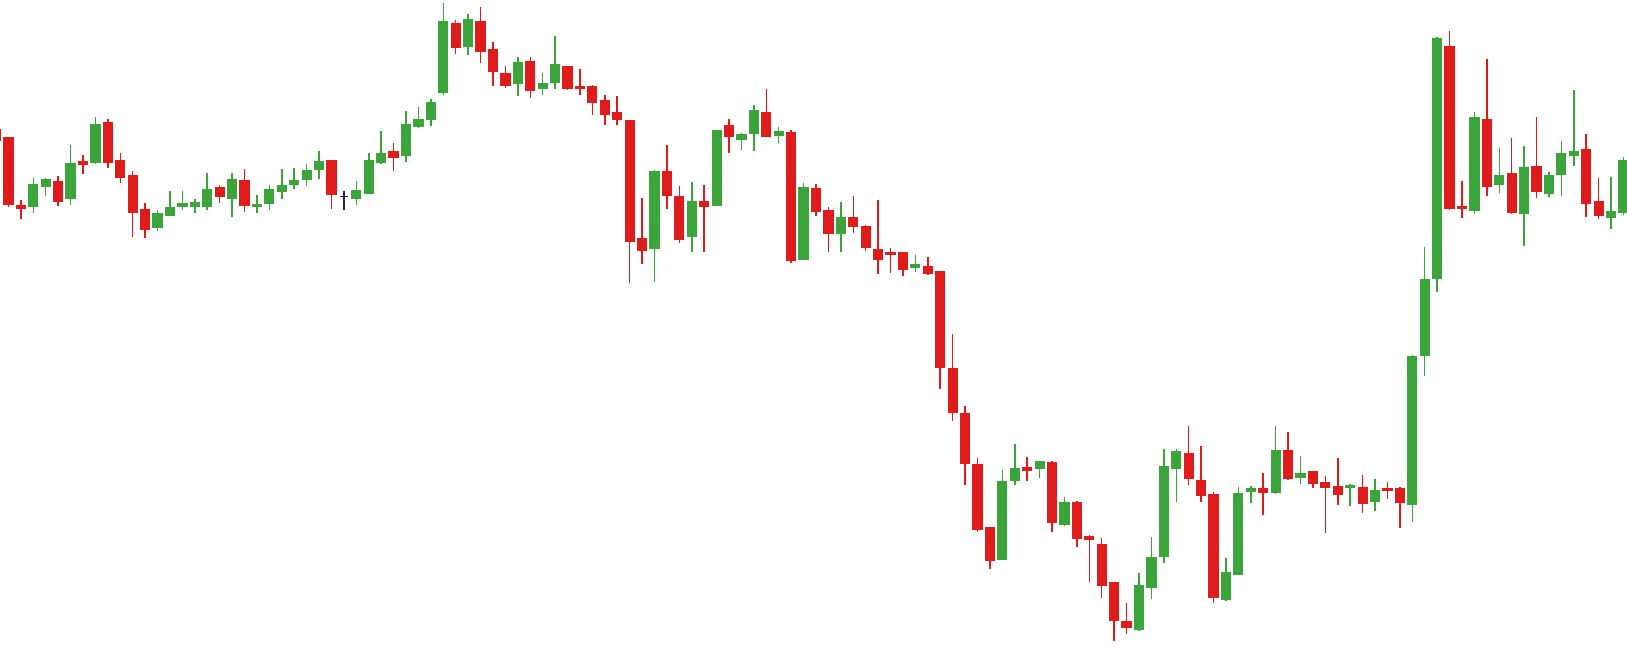buy: (983, 480, 1158, 644), (15, 164, 163, 241)
